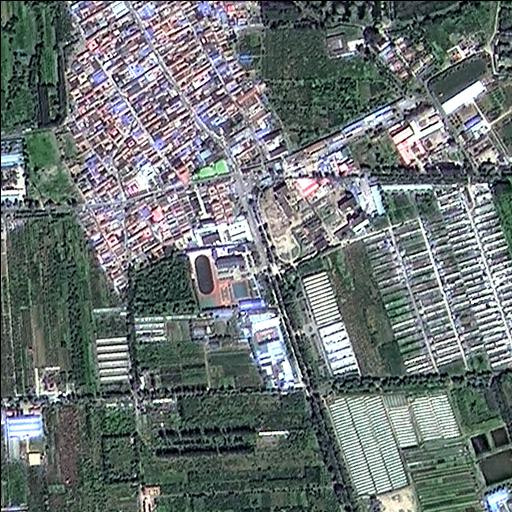school: (185, 238, 265, 312)
